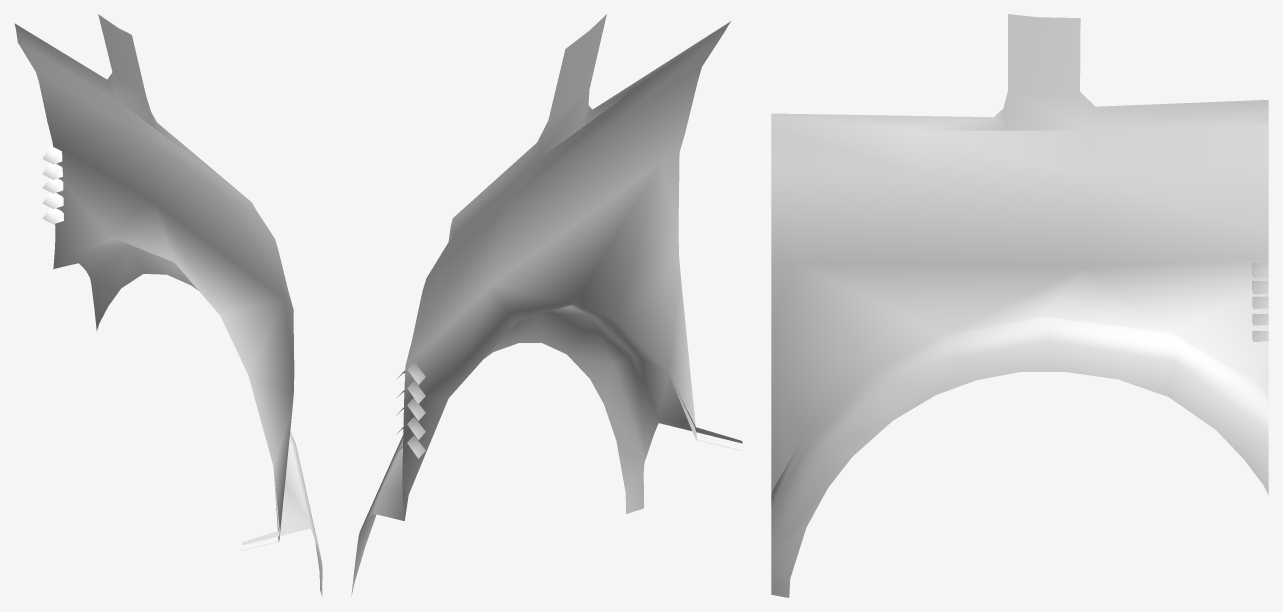
3 renders of one model, left to right at view 1: azimuth 30°, elevation 25°; view 2: azimuth 150°, elevation 25°; view 3: azimuth 270°, elevation 25°, orthographic. The views are drawn at different scales.
Size of the model in its own units: 0.2869 by 1.59 by 1.33.
1 material, 1 textured.
